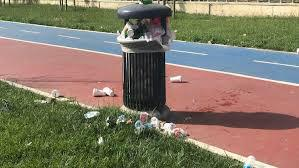Container: (116, 3, 173, 117), (116, 41, 170, 110)
Garbage: (111, 114, 177, 141), (120, 19, 173, 44), (41, 81, 83, 109), (86, 83, 116, 99), (79, 105, 94, 129), (128, 114, 147, 132), (164, 77, 189, 87), (140, 28, 156, 39)
